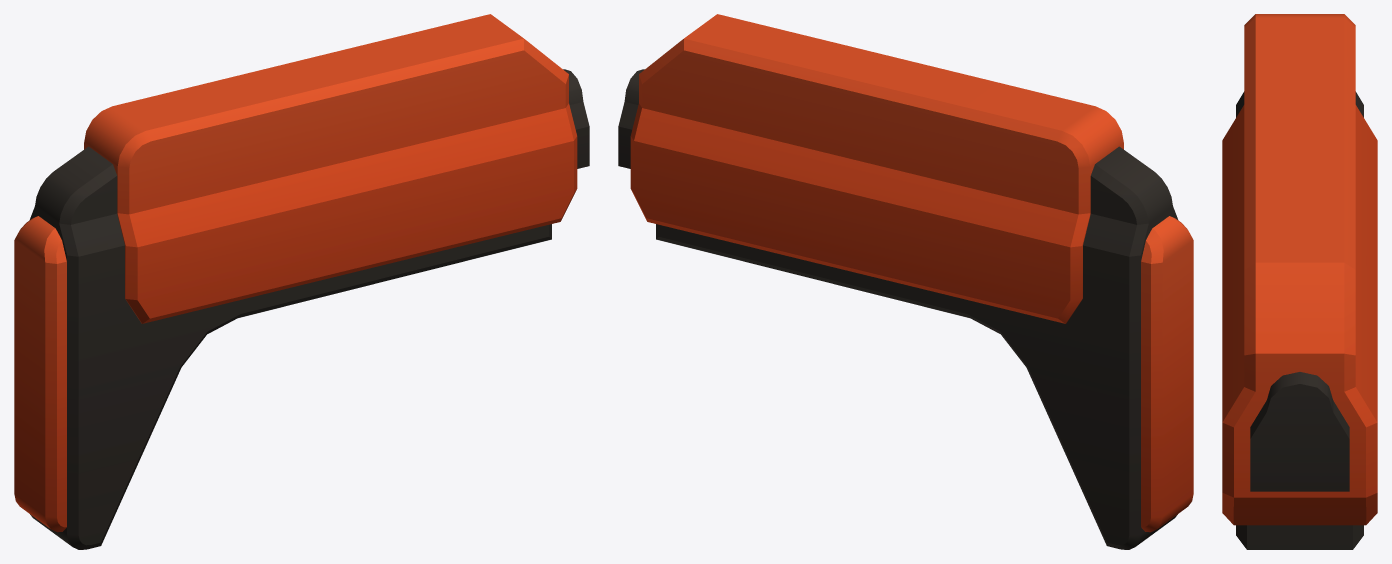
The model's file is MG4_ButtstockLight.fbx.
3 views of the same model, side by side, from view 1: azimuth 30°, elevation 25°; view 2: azimuth 150°, elevation 25°; view 3: azimuth 270°, elevation 25° (orthographic). The views are drawn at different scales.
Visible parts, largest first — view 1: MG4_ButtstockLight; view 2: MG4_ButtstockLight; view 3: MG4_ButtstockLight.
Part boxes in pixels (box(x1,y1,x2,y2)): MG4_ButtstockLight: box(14, 14, 589, 549); MG4_ButtstockLight: box(618, 14, 1193, 549); MG4_ButtstockLight: box(1222, 14, 1377, 549).
Size of the model in its own units: 23.81 by 16.87 by 4.46.
